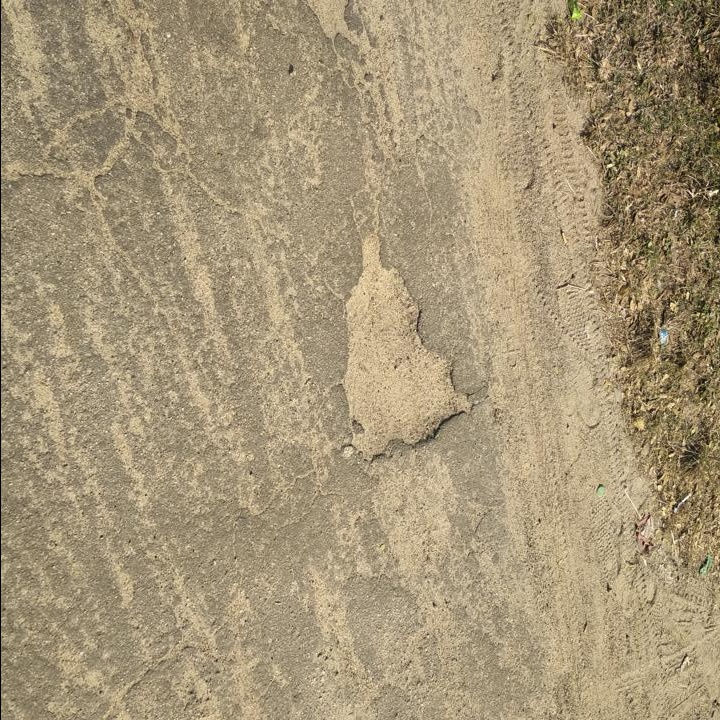pothole: (335, 229, 480, 466)
